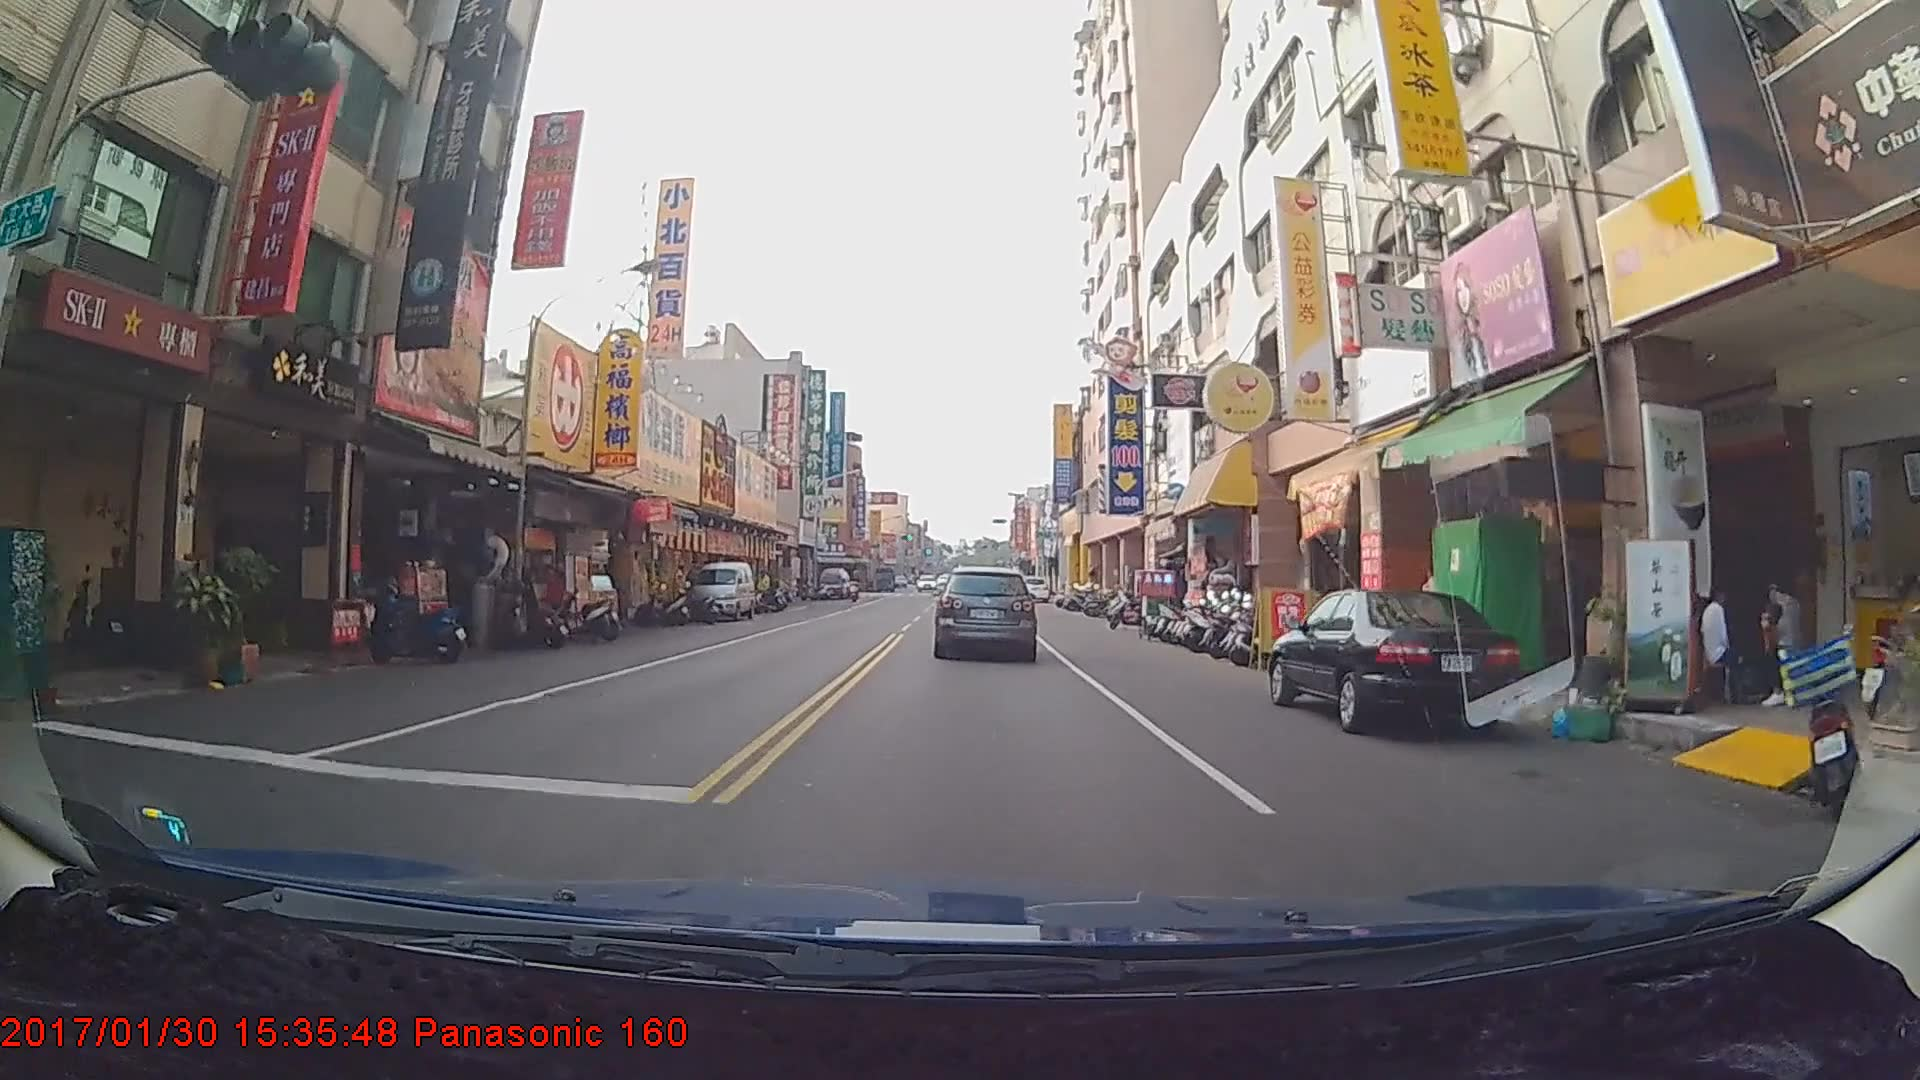pedestrian: (1760, 573, 1812, 711), (1698, 577, 1751, 703)
vehicle: (1266, 586, 1519, 731), (934, 566, 1036, 659), (688, 564, 754, 624), (817, 566, 848, 601), (1016, 572, 1048, 600)
